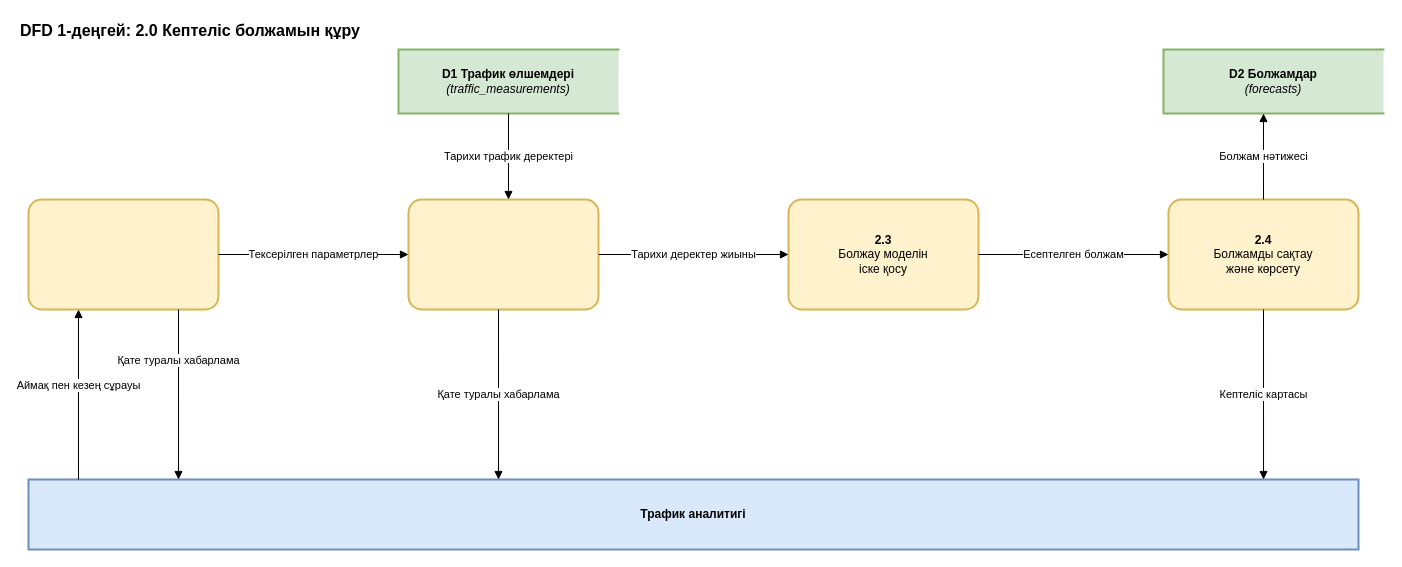
This 1402x567 diagram has some shape labels left out. Here are the shapes that lost their labels. From the top down, the box of each, then its label:
(27, 198, 219, 310): 2.1 Сұрауды тексеру
(407, 198, 599, 310): 2.2 Тарихи деректерді жүктеу
